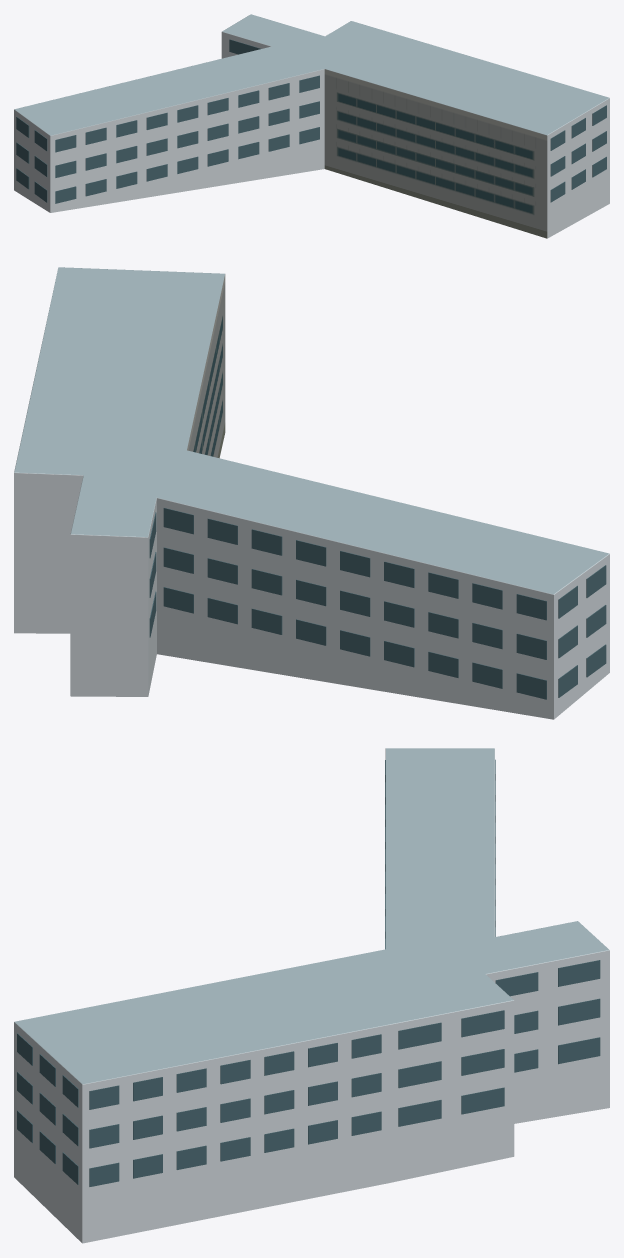
The model's file is intact.glb.
3 views of the same model, one above another, from view 1: azimuth 30°, elevation 25°; view 2: azimuth 150°, elevation 25°; view 3: azimuth 270°, elevation 25° (orthographic). The views are drawn at different scales.
Visible parts, largest first — view 1: SM_techno_Intact_00, SM_techno_Intact_01; view 2: SM_techno_Intact_00, SM_techno_Intact_01; view 3: SM_techno_Intact_00, SM_techno_Intact_01.
Part boxes in pixels (<box>): SM_techno_Intact_00: <box>14,14,609,238</box>; SM_techno_Intact_01: <box>16,39,606,203</box>; SM_techno_Intact_00: <box>14,267,609,719</box>; SM_techno_Intact_01: <box>149,508,606,699</box>; SM_techno_Intact_00: <box>14,748,609,1243</box>; SM_techno_Intact_01: <box>17,759,600,1186</box>.
Bounding box in the file's own units: 2.2 × 0.485 × 1.65.
Materials: 4 (1 with a texture image).
